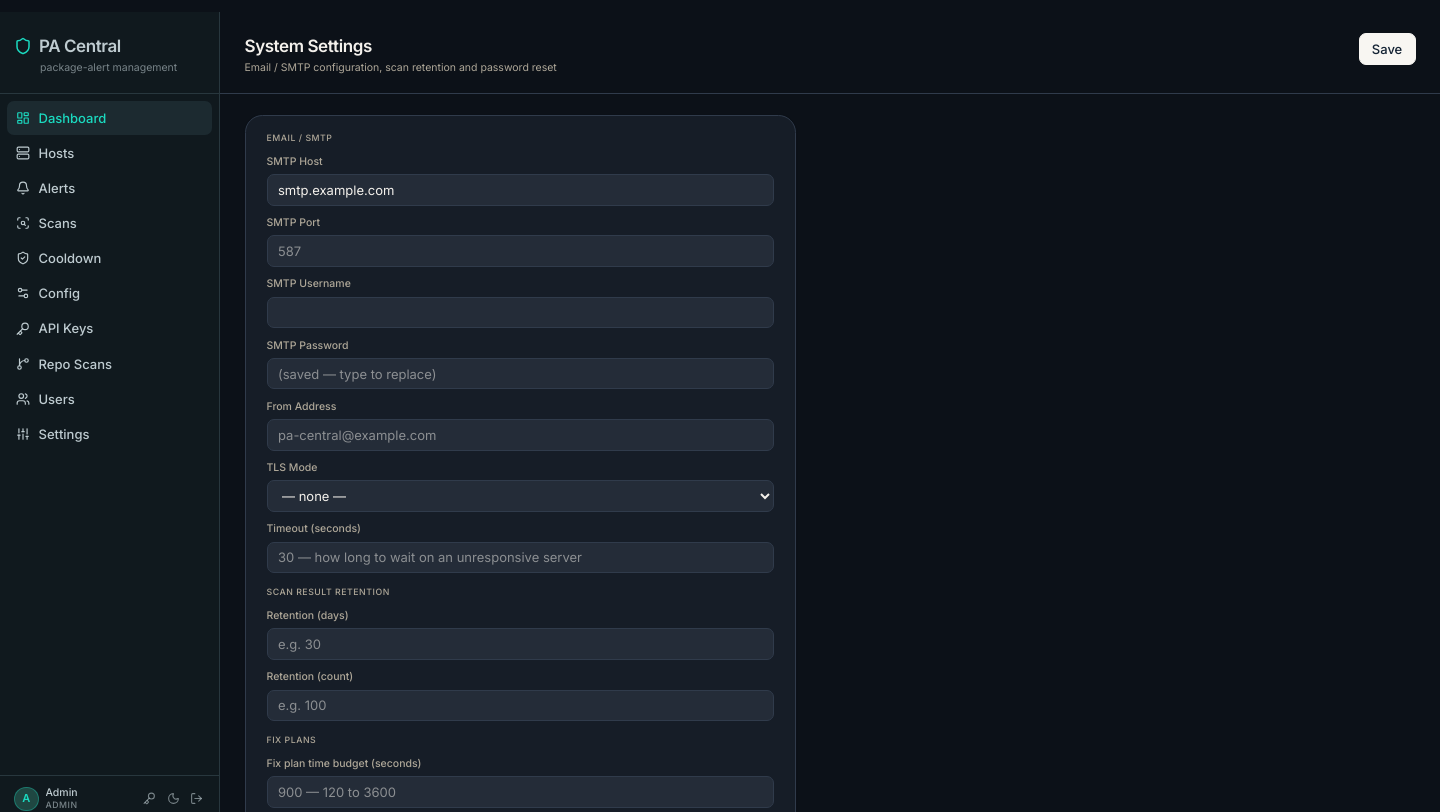
Test: SystemSettings — an unsaved edit to a dependency field cannot act on stale readiness › clears the warning once the edit is saved and readiness is re-fetched
Replace the text in the field labelled "SMTP Host" with "new.smtp.example.com" at (520, 190), box [266,174,774,206]
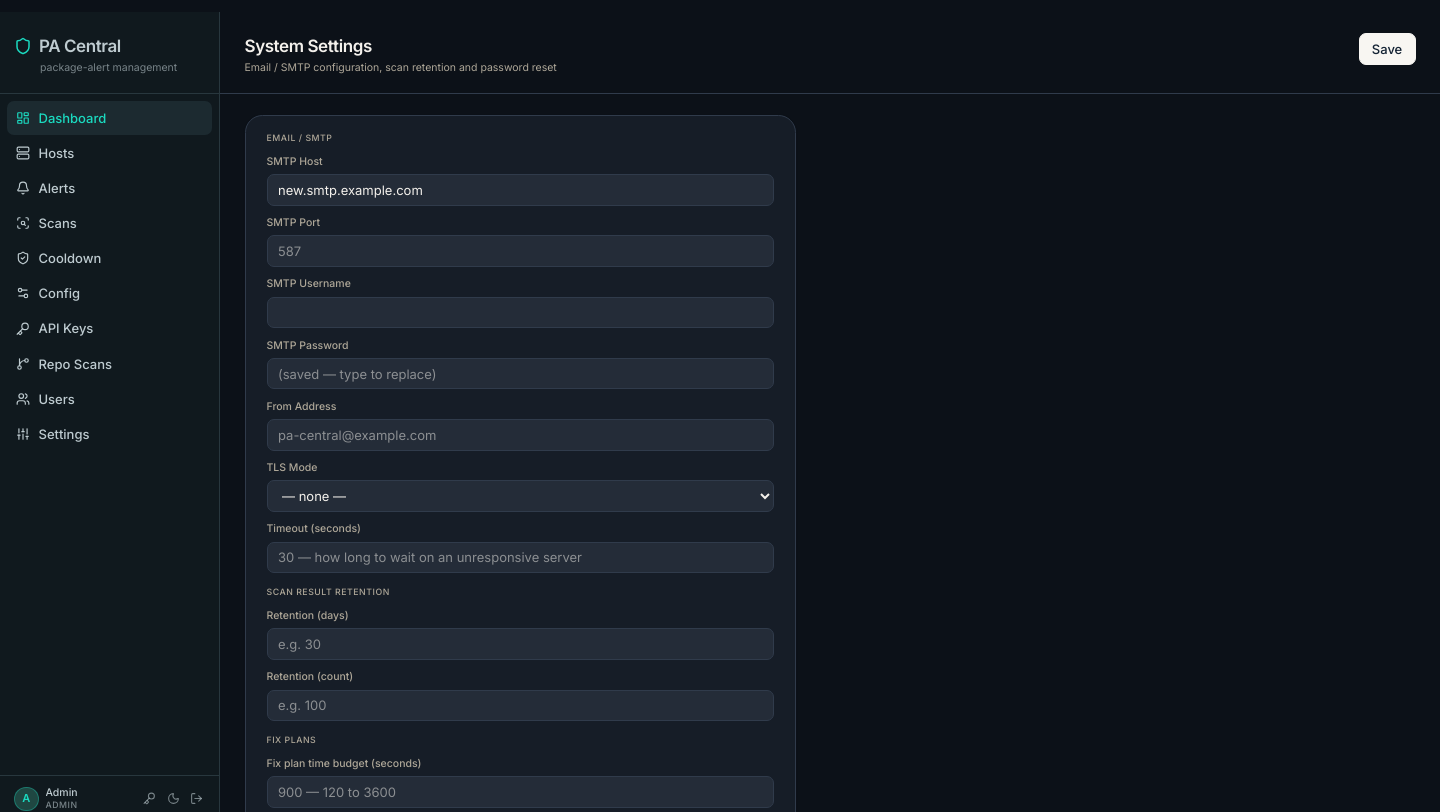
Click the button "Save".
click(1387, 49)  # box [1358,33,1416,64]
(page scrolled)
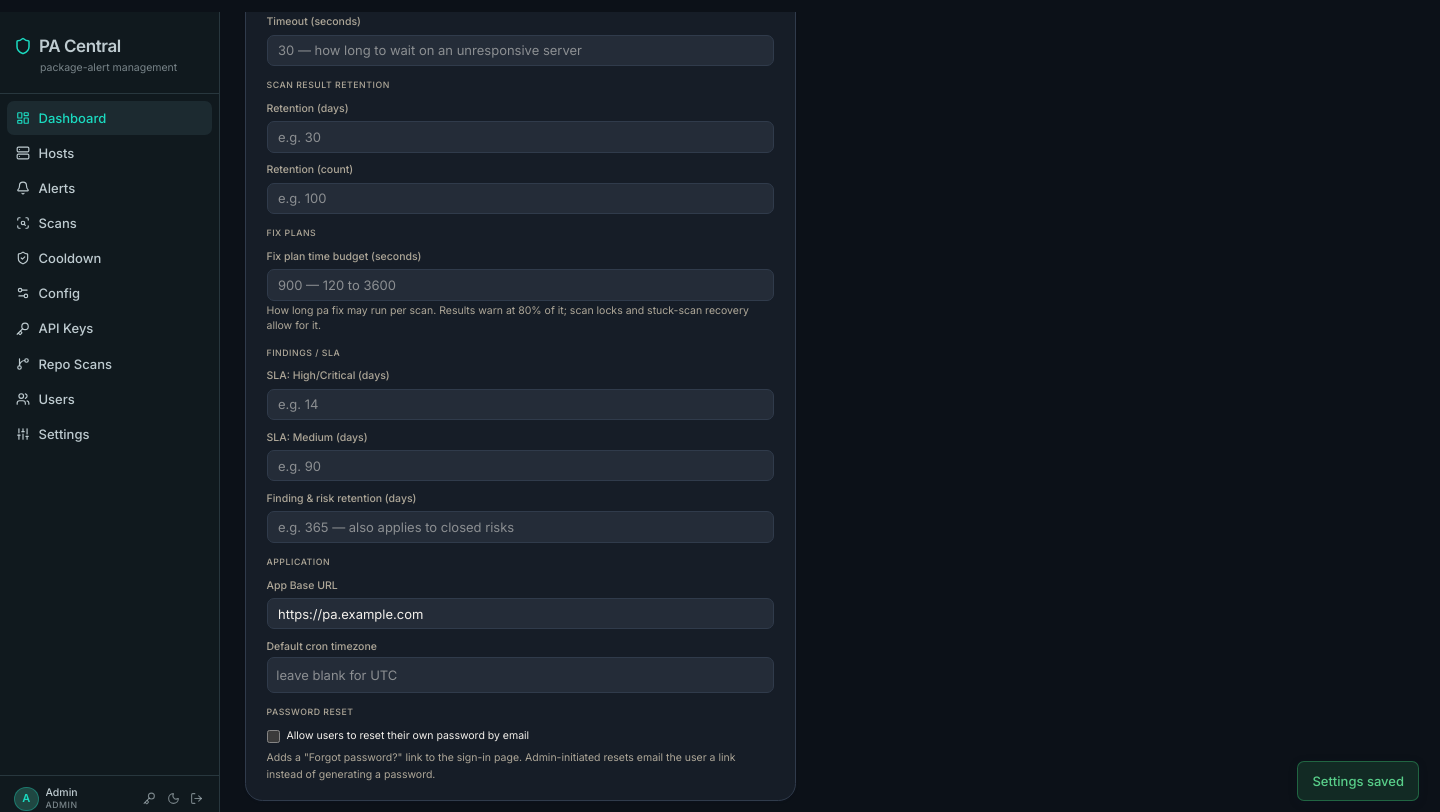
Check: the text "Forgot password" is shown, box [266,751,736,781]
Check: the checkbox labelled "Allow users to reset their own password by email" is enabled, box [266,730,280,743]
